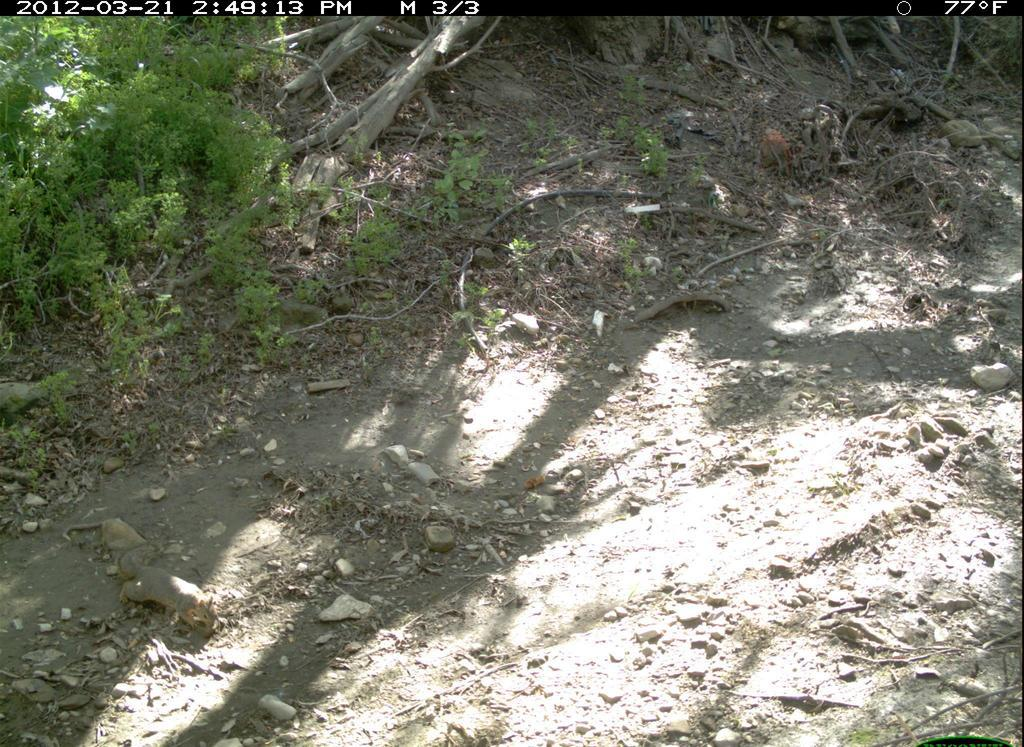squirrel: (117, 533, 233, 641)
